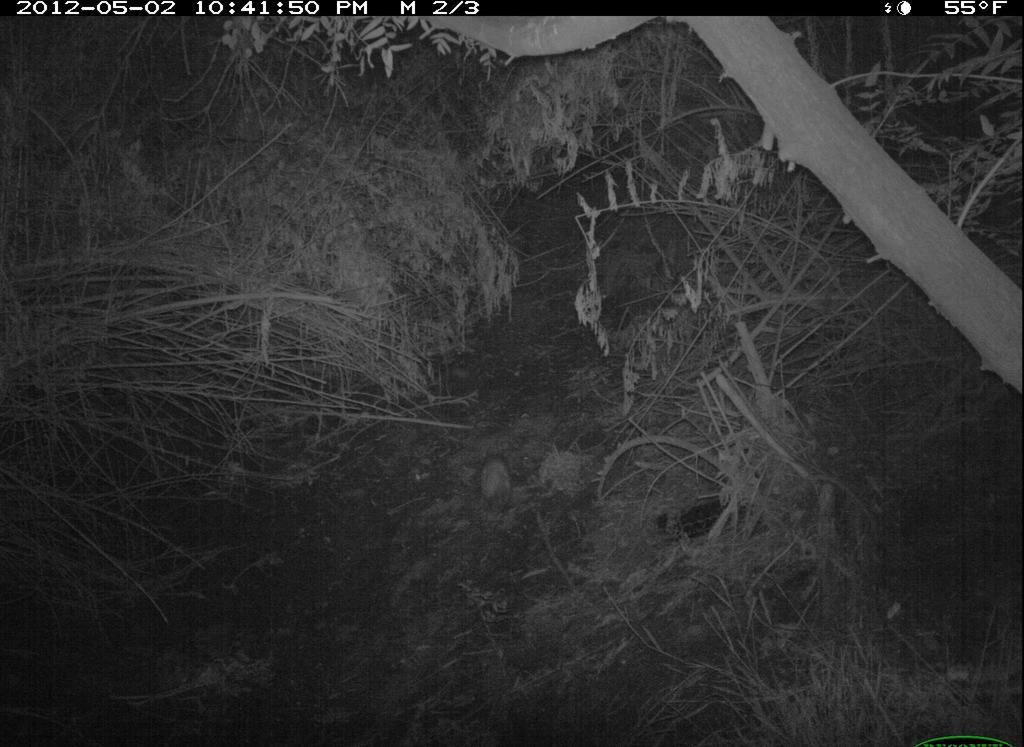opossum: (477, 434, 534, 530)
